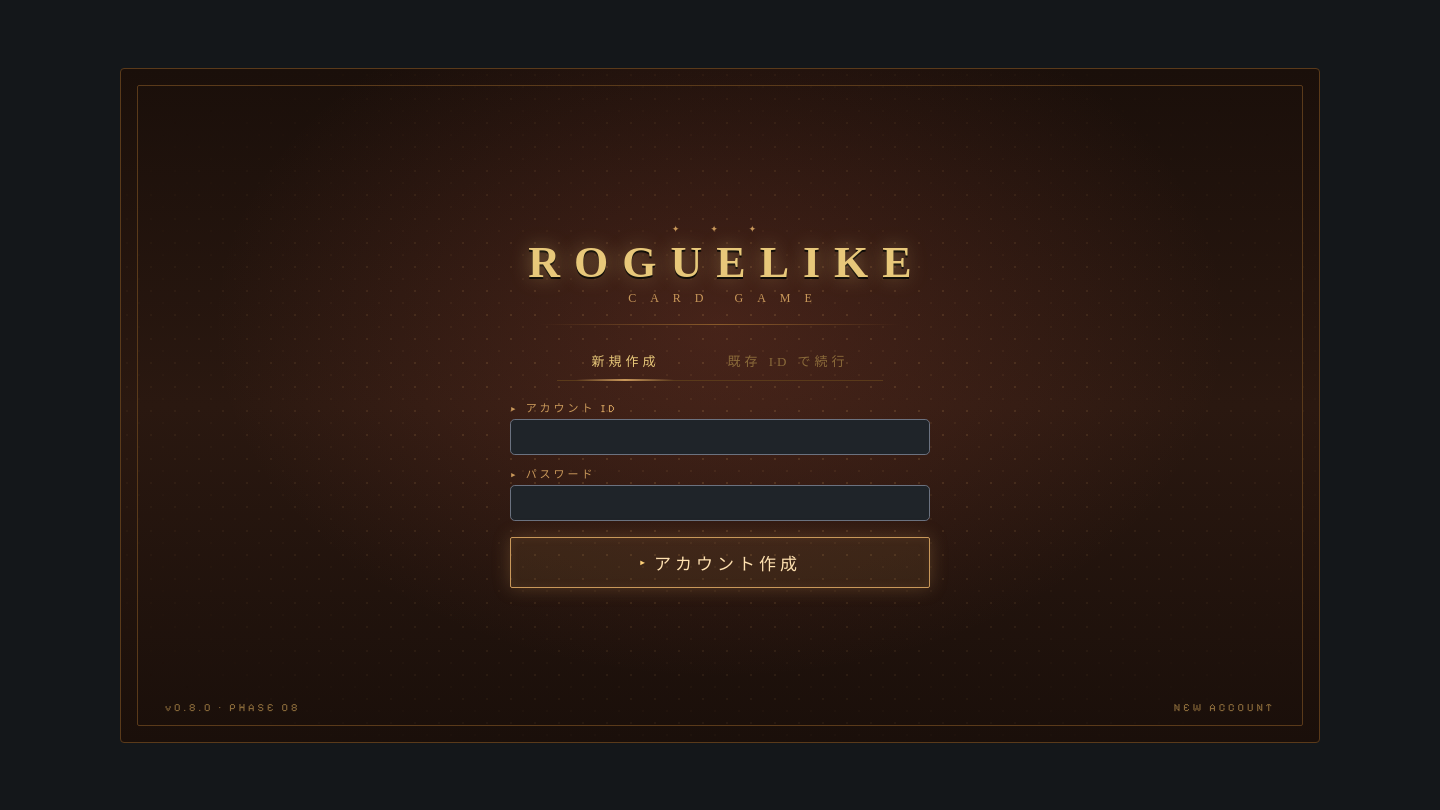
Test: LoginScreen › shows conflict message on 409
Type "dup" into the field named "アカウント ID". click: point(720, 436)
box: [510, 418, 930, 454]
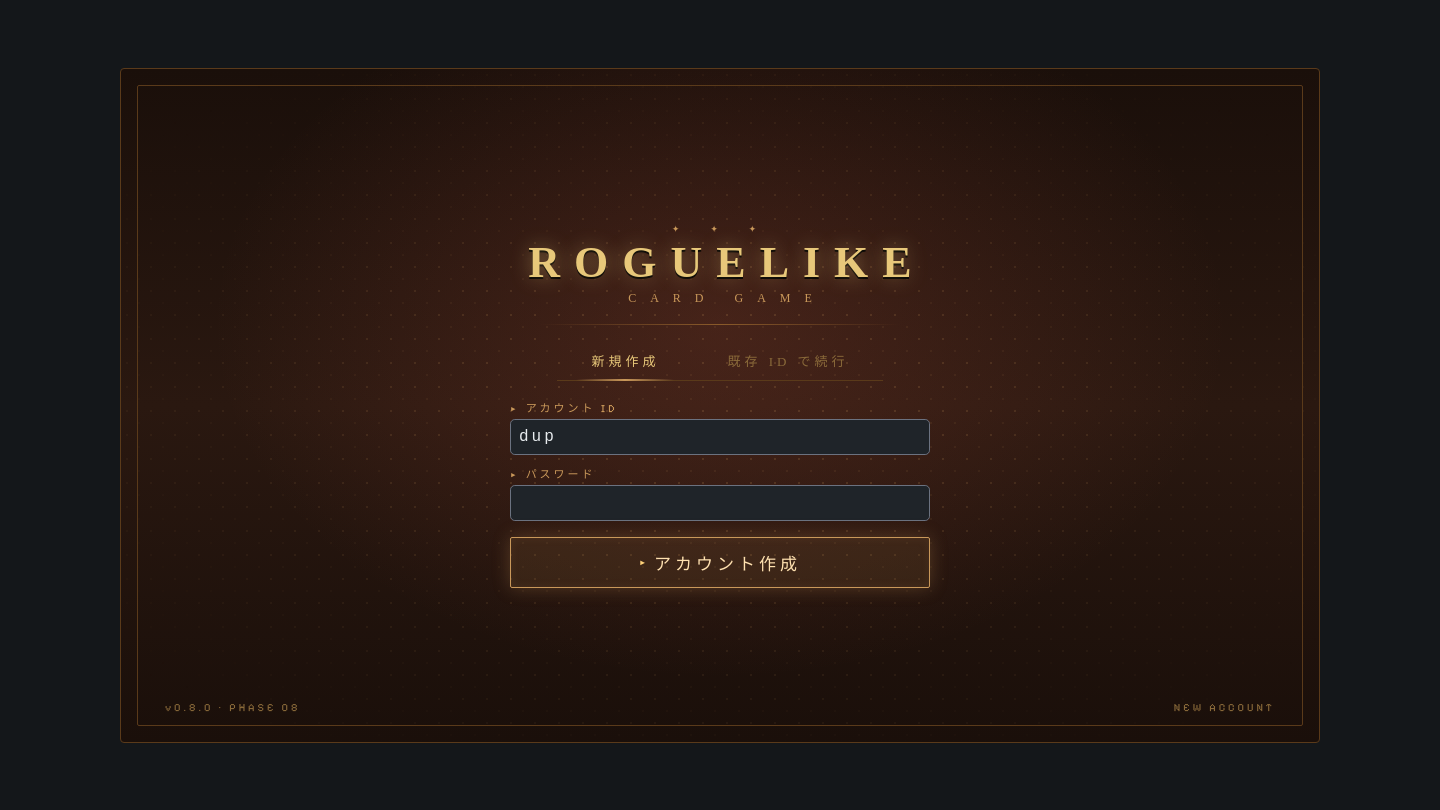
Click the button "▸ アカウント作成". click: point(720, 562)
box: [510, 536, 930, 588]
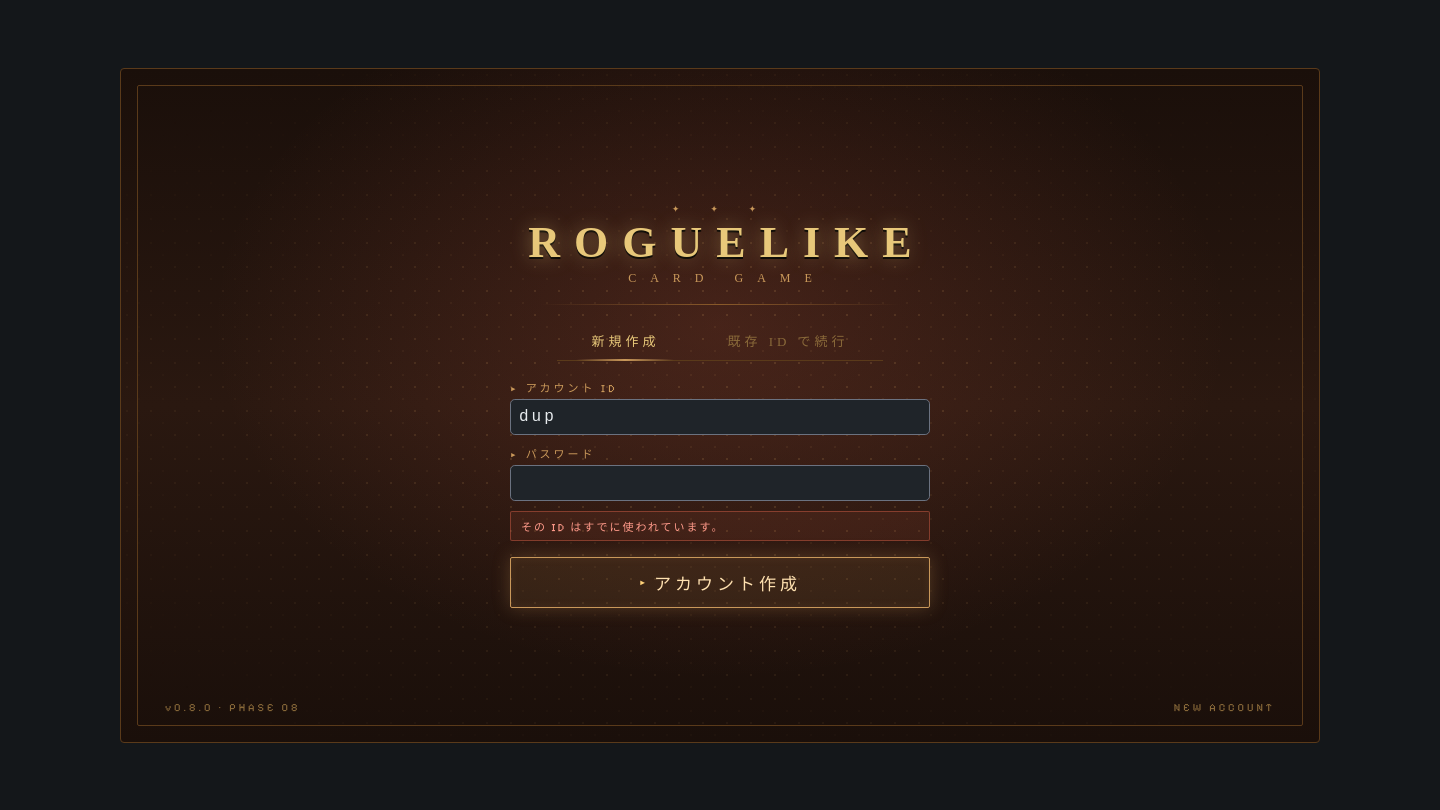
Expected: the text "その ID はすでに使われています。" is shown, [510, 510, 930, 540]
